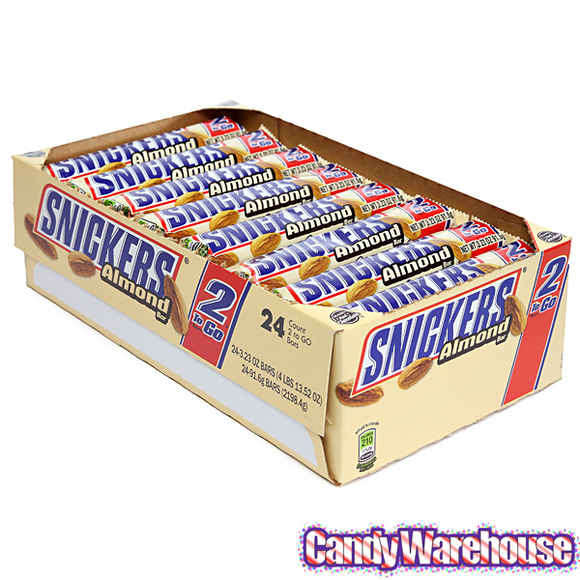snickers: (357, 274, 514, 388), (358, 274, 514, 385), (29, 188, 174, 296), (39, 190, 174, 296), (292, 234, 439, 302), (247, 213, 388, 278), (294, 234, 439, 297), (199, 194, 342, 254), (249, 213, 388, 274), (199, 194, 342, 251), (355, 259, 484, 321), (333, 259, 484, 311), (162, 177, 296, 231), (89, 141, 223, 194), (126, 157, 259, 207), (161, 177, 296, 226), (127, 157, 259, 207), (53, 125, 183, 175), (127, 157, 259, 205), (59, 125, 183, 175)
